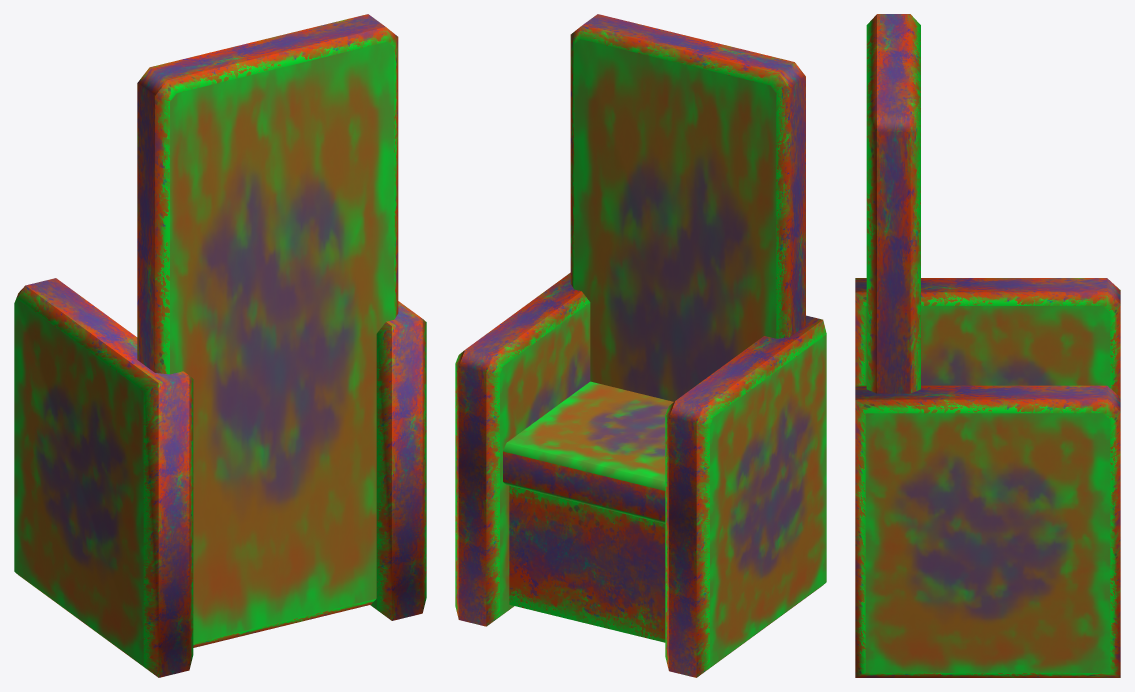
Rendered from AO Chair.fbx.
3 renders of one model, left to right at view 1: azimuth 30°, elevation 25°; view 2: azimuth 150°, elevation 25°; view 3: azimuth 270°, elevation 25°, orthographic. The views are drawn at different scales.
Visible parts, largest first — view 1: Chair; view 2: Chair; view 3: Chair.
Part boxes in pixels (bbox=[...]): Chair: bbox=[14, 14, 426, 677]; Chair: bbox=[455, 14, 826, 677]; Chair: bbox=[855, 14, 1120, 677].
Size of the model in its own units: 232 by 459 by 200.
